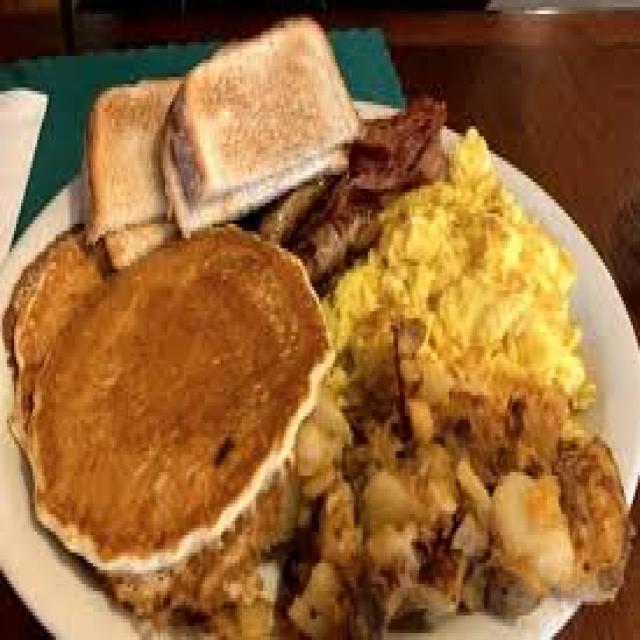French Toast: (75, 14, 352, 220)
Omelette: (344, 136, 589, 385)
Pancakes: (2, 224, 324, 570)
